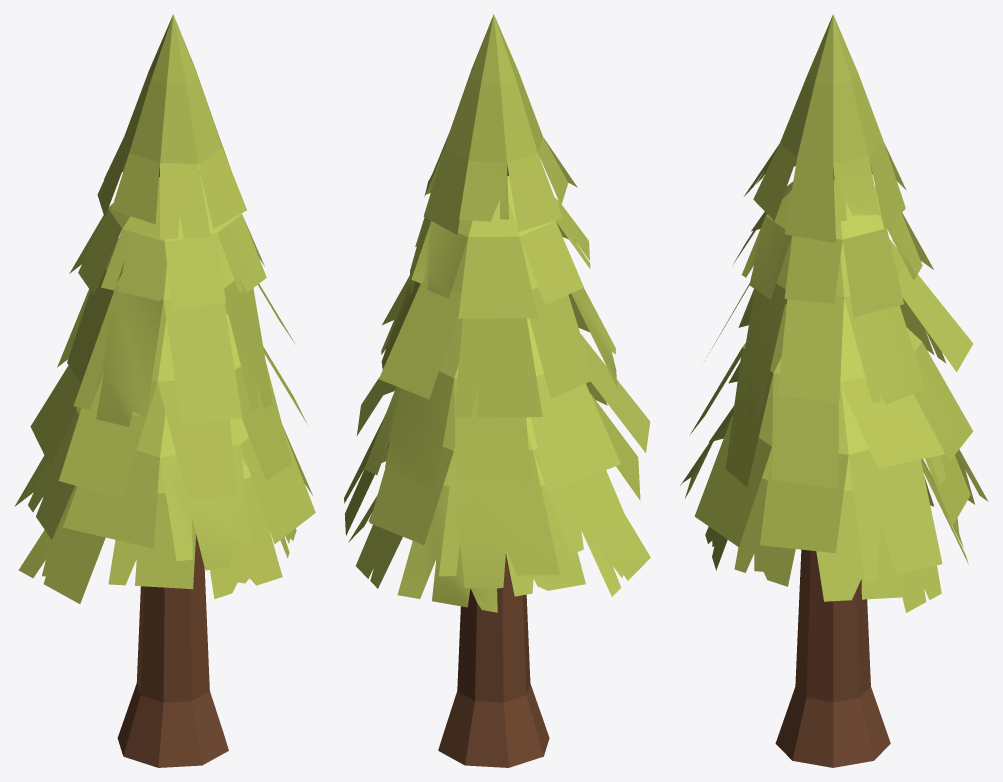
The model's file is arbol4.glb.
3 renders of one model, left to right at view 1: azimuth 30°, elevation 25°; view 2: azimuth 150°, elevation 25°; view 3: azimuth 270°, elevation 25°, orthographic.
Visible parts, largest first — view 1: Circle; view 2: Circle; view 3: Circle.
Part boxes in pixels (x1,y1,x2,y2): Circle: (14, 14, 315, 767); Circle: (344, 14, 650, 767); Circle: (680, 14, 988, 767).
Bounding box in the file's own units: 0.7204 × 1.86 × 0.7143.
